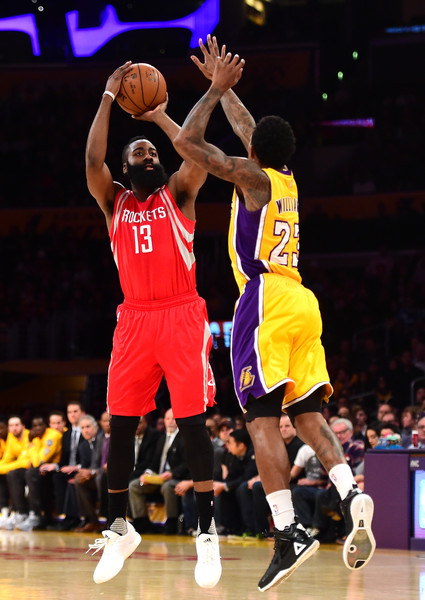Basketball: (115, 61, 166, 116)
